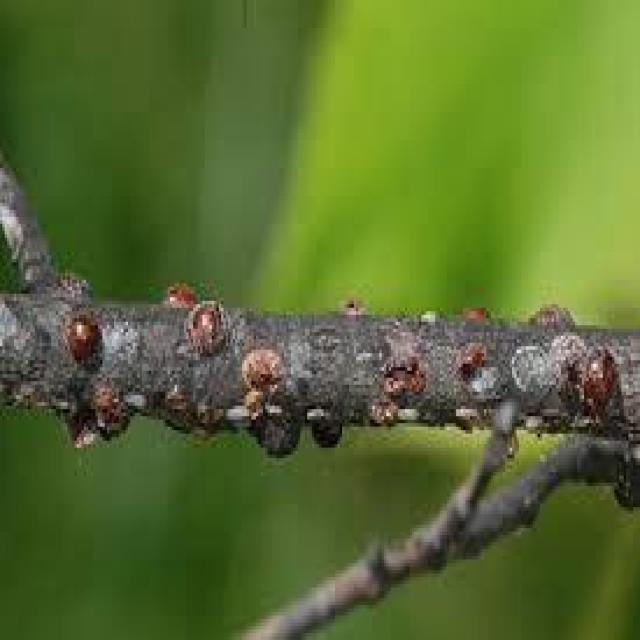BlackScale: (580, 352, 620, 426), (184, 295, 226, 358), (254, 406, 298, 454), (66, 313, 101, 368), (242, 346, 279, 388), (312, 417, 340, 448)
